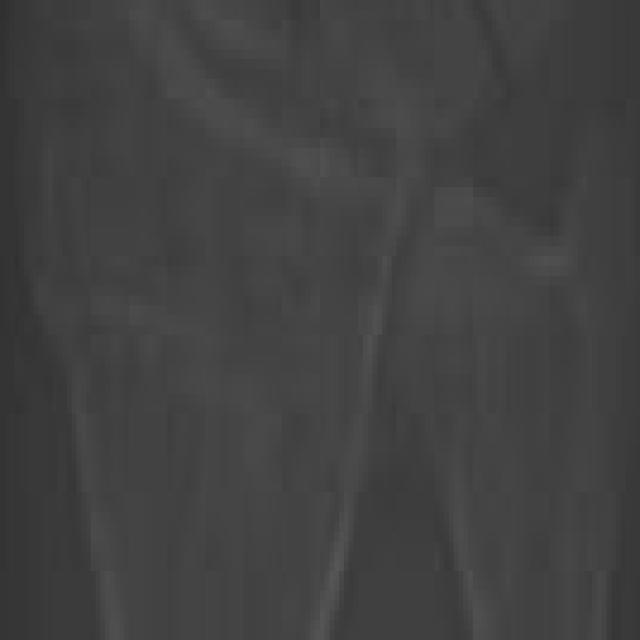fracture: (4, 0, 640, 640)
